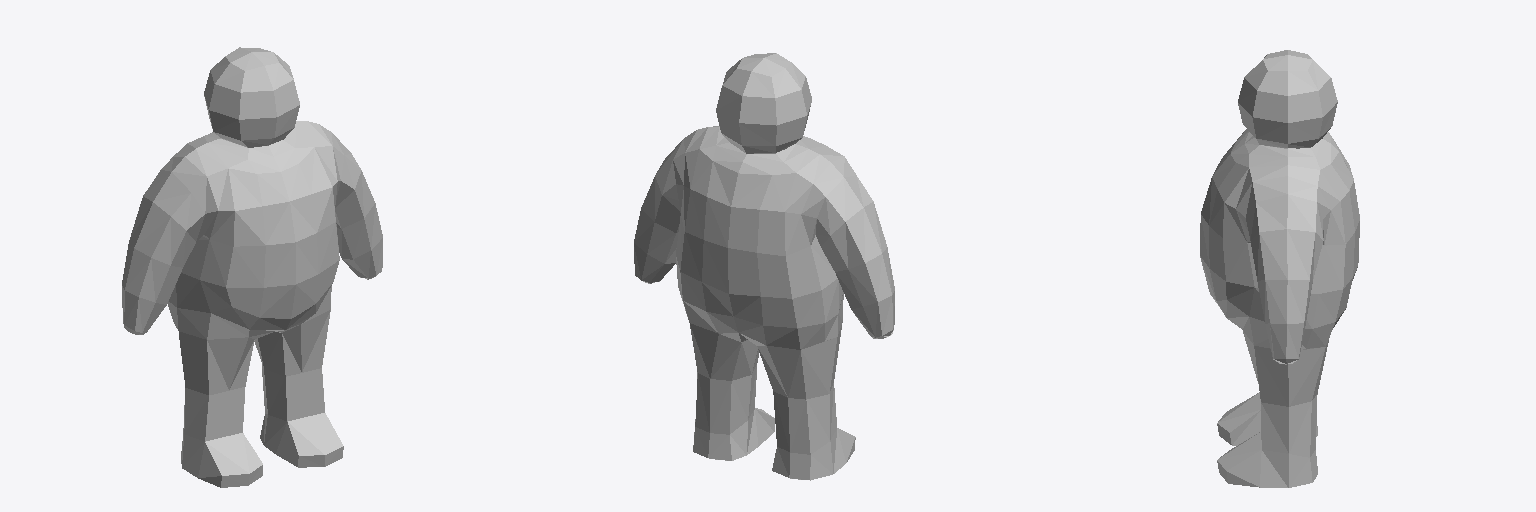
The model's file is snowman_ian.obj.
3 renders of one model, left to right at view 1: azimuth 30°, elevation 25°; view 2: azimuth 150°, elevation 25°; view 3: azimuth 270°, elevation 25°, orthographic.
Size of the model in its own units: 103 by 154 by 55.62.